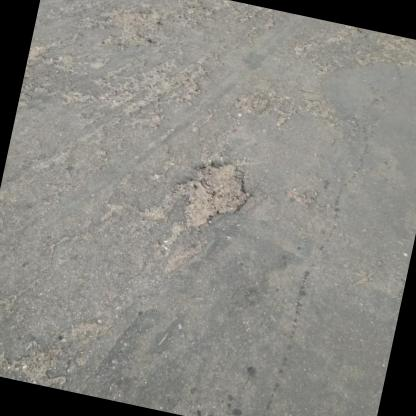pothole: (163, 150, 253, 236), (103, 0, 163, 54)
